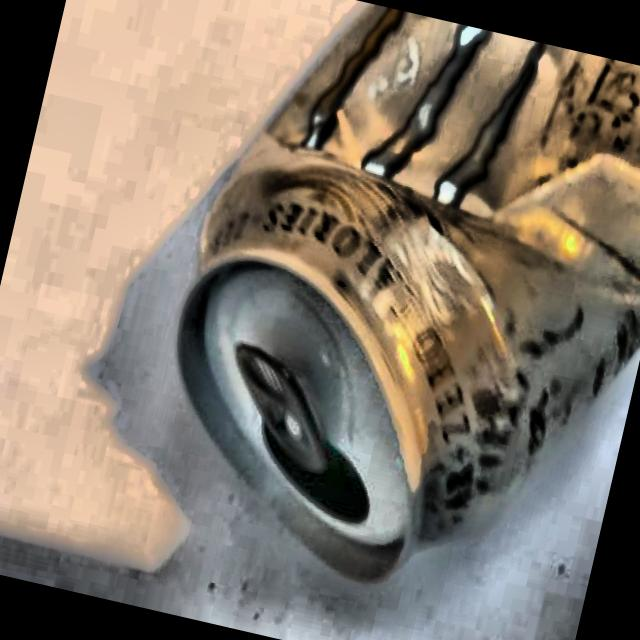metal: (125, 0, 640, 638)
